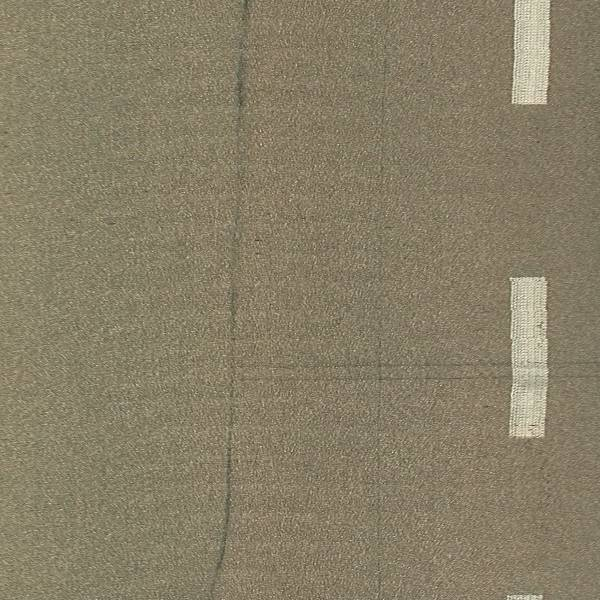road_damage: (218, 350, 506, 374)
